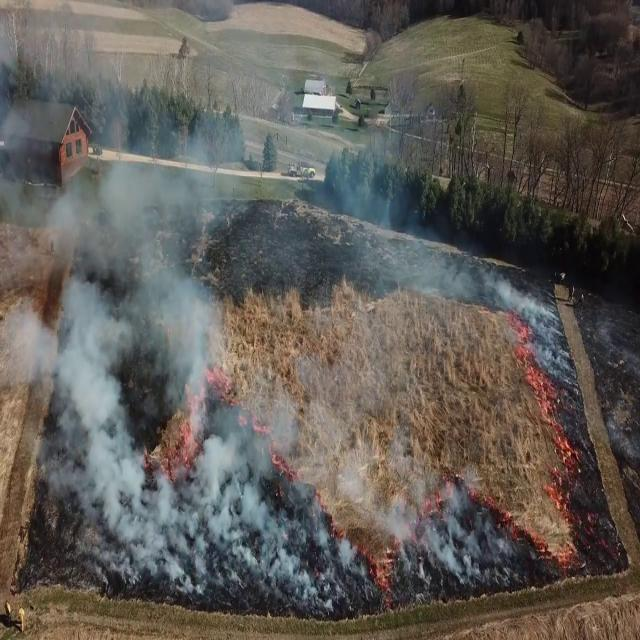Smoke: (0, 7, 283, 588), (6, 307, 494, 591)
